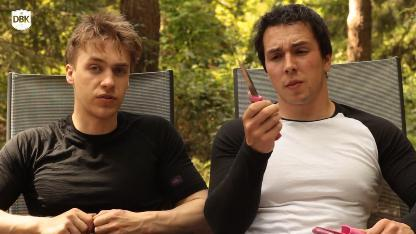knife: (232, 52, 282, 126)
